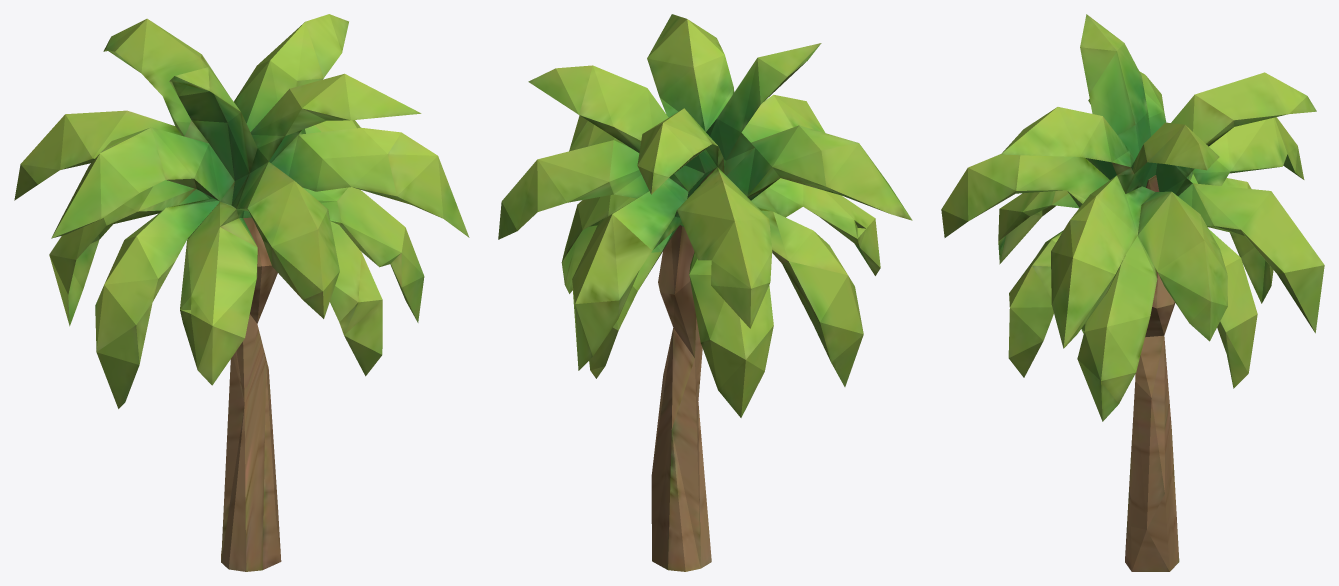
Rendered from palm_c_far.glb.
3 views of the same model, side by side, from view 1: azimuth 30°, elevation 25°; view 2: azimuth 150°, elevation 25°; view 3: azimuth 270°, elevation 25° (orthographic). The views are drawn at different scales.
Parts seen in each view (by area): view 1: body; view 2: body; view 3: body.
Part boxes in pixels (left/top/right/bottom): body: left=14, top=14, right=469, bottom=571; body: left=498, top=14, right=912, bottom=571; body: left=941, top=14, right=1324, bottom=571.
Bounding box in the file's own units: 3.45 × 4.51 × 3.14.
Materials: 2 (2 with a texture image).
